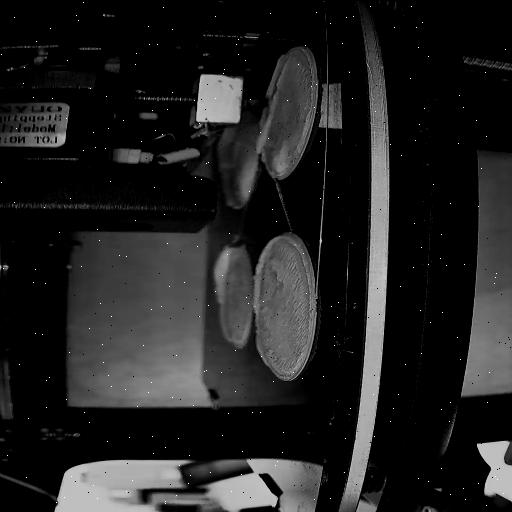over_extrusion: (252, 234, 312, 314), (207, 241, 241, 304), (252, 107, 276, 155), (268, 58, 292, 106), (218, 305, 234, 341), (254, 332, 270, 364)
